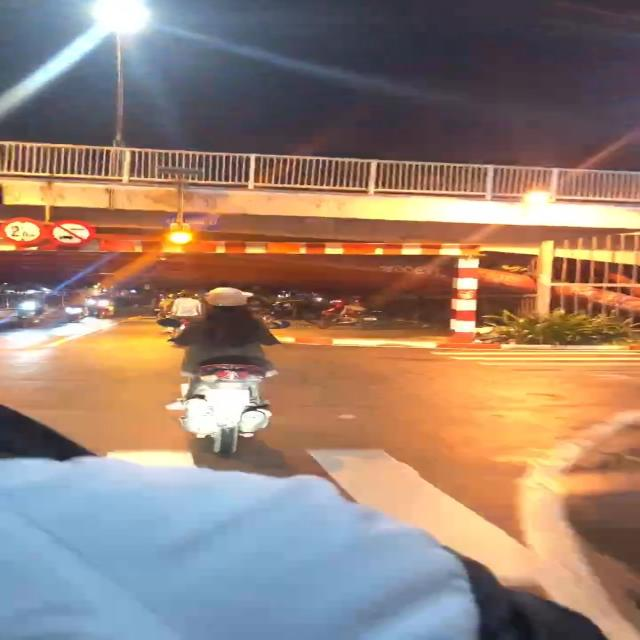Bien bao cam xe oto khach va xe oto tai: (48, 219, 99, 249)
